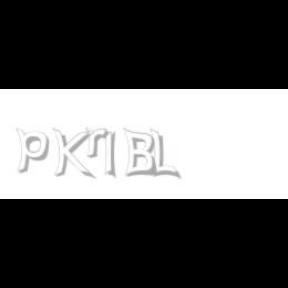B: (123, 128, 157, 178)
K: (52, 128, 92, 180)
L: (150, 128, 178, 180)
l: (104, 128, 120, 180)
p: (16, 128, 52, 174)
r: (86, 128, 112, 158)
